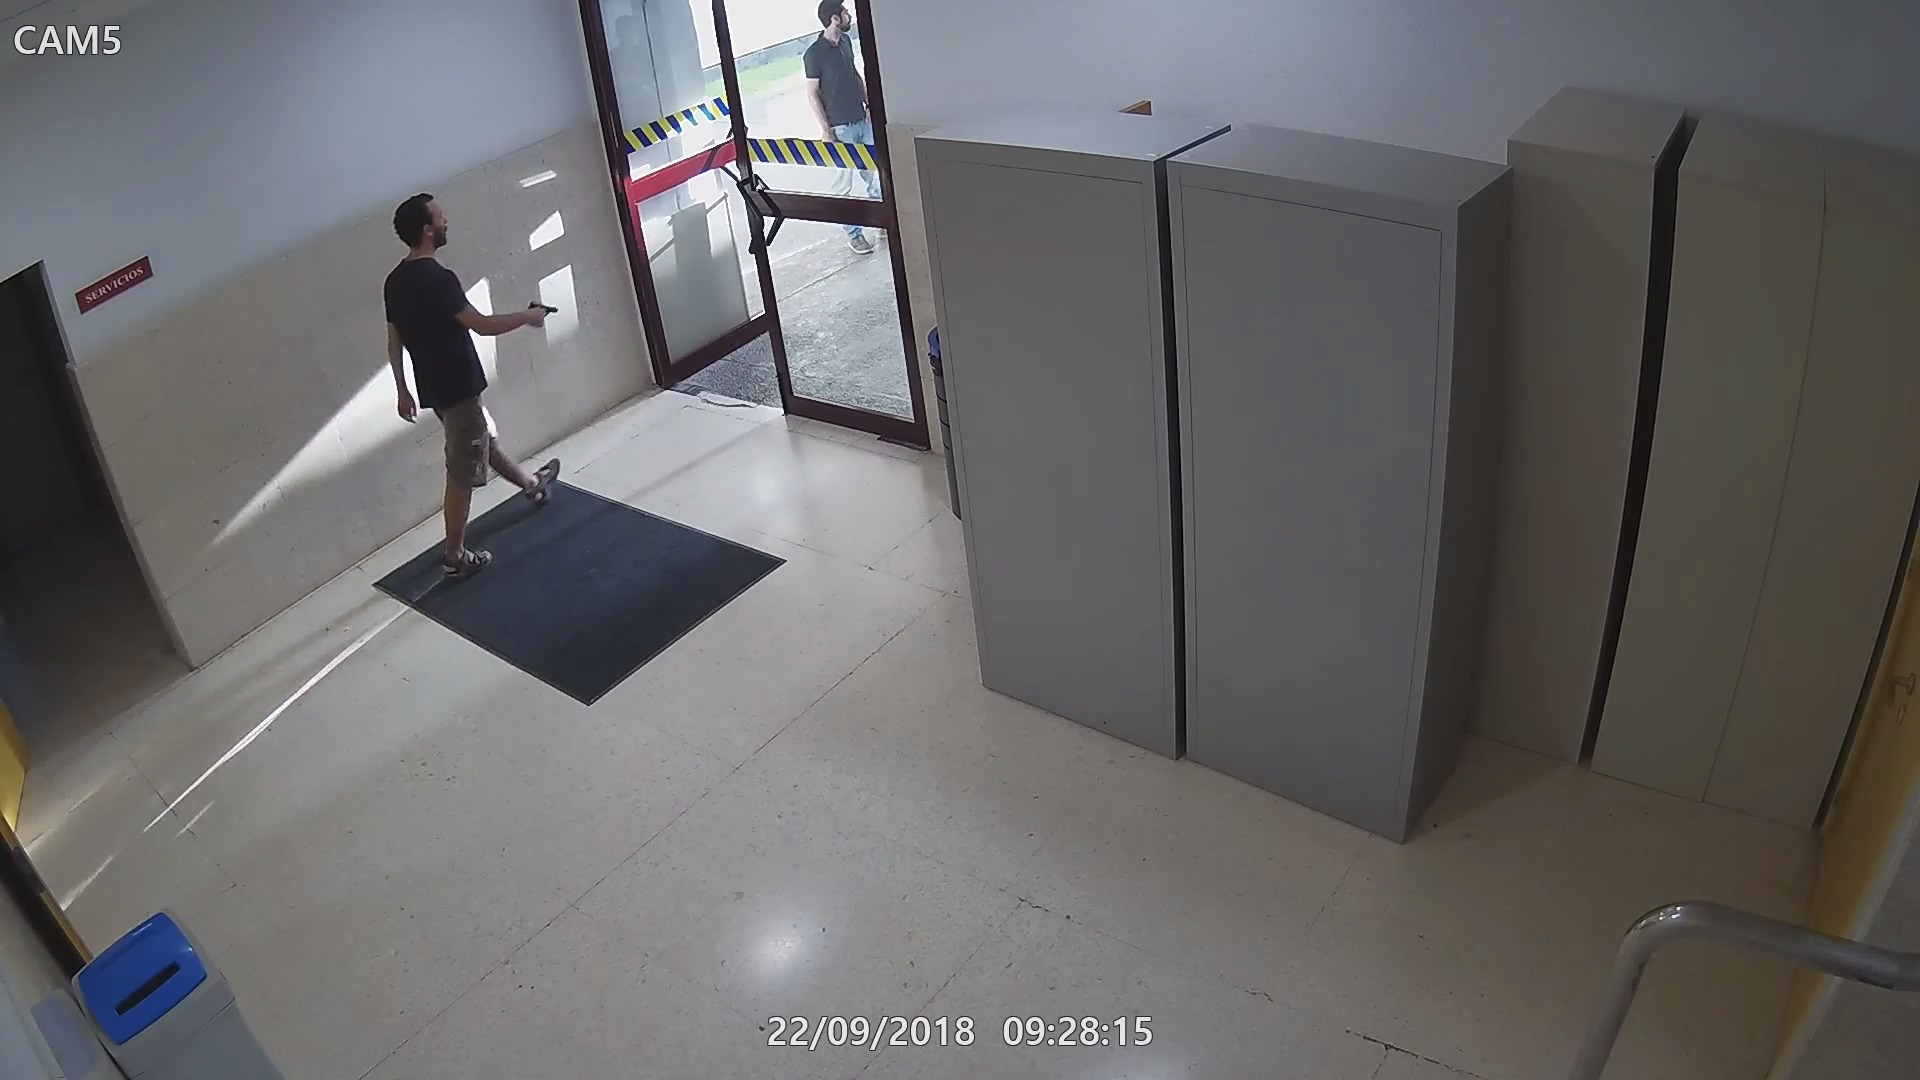Handgun: (520, 298, 559, 327)
